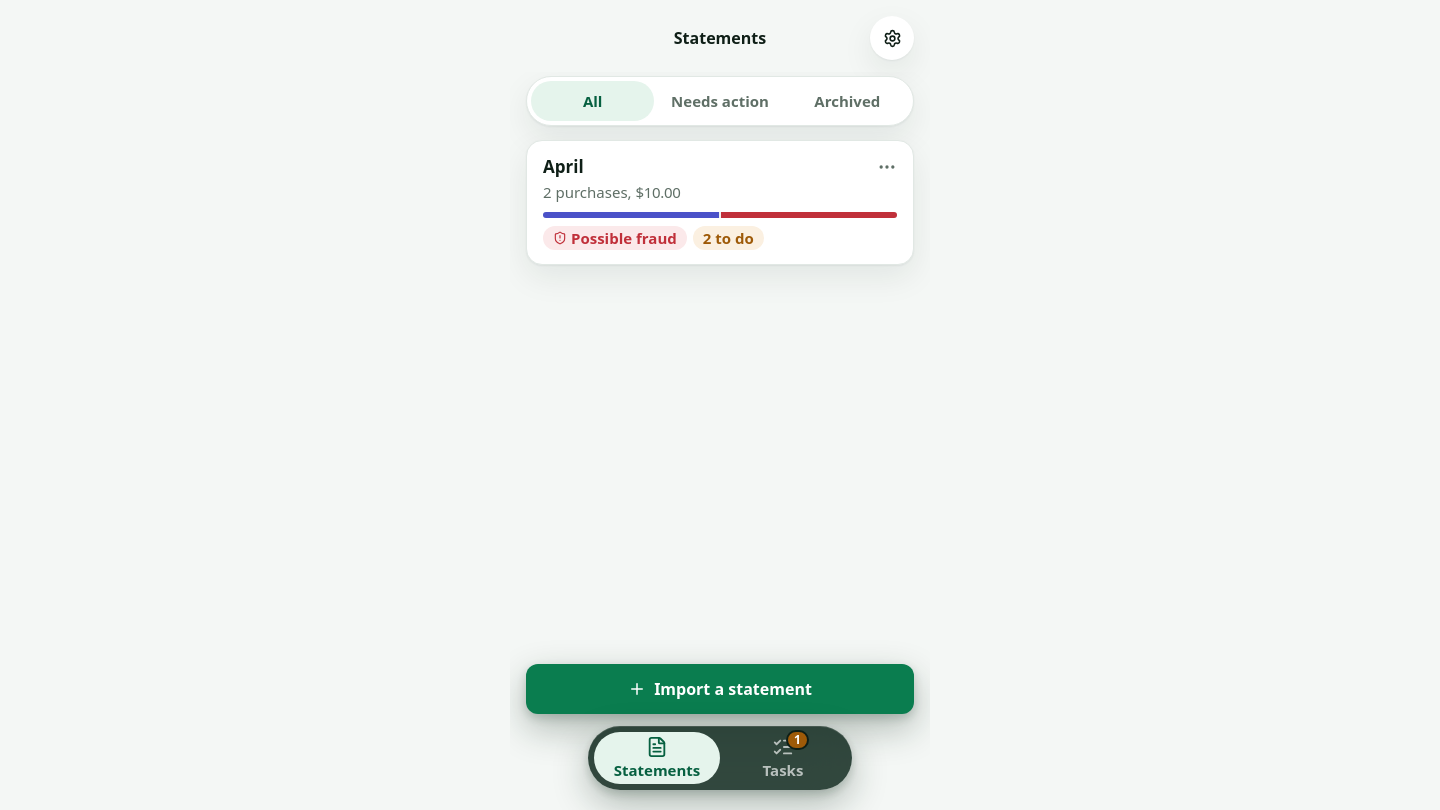
Test: App › Tasks › resolving a flag moves it to Done and clears the statement
The width and height of the screenshot is (1440, 810).
Click the button with aria-label "Tasks, 1 overdue".
click(783, 758)  # box [720, 732, 846, 784]
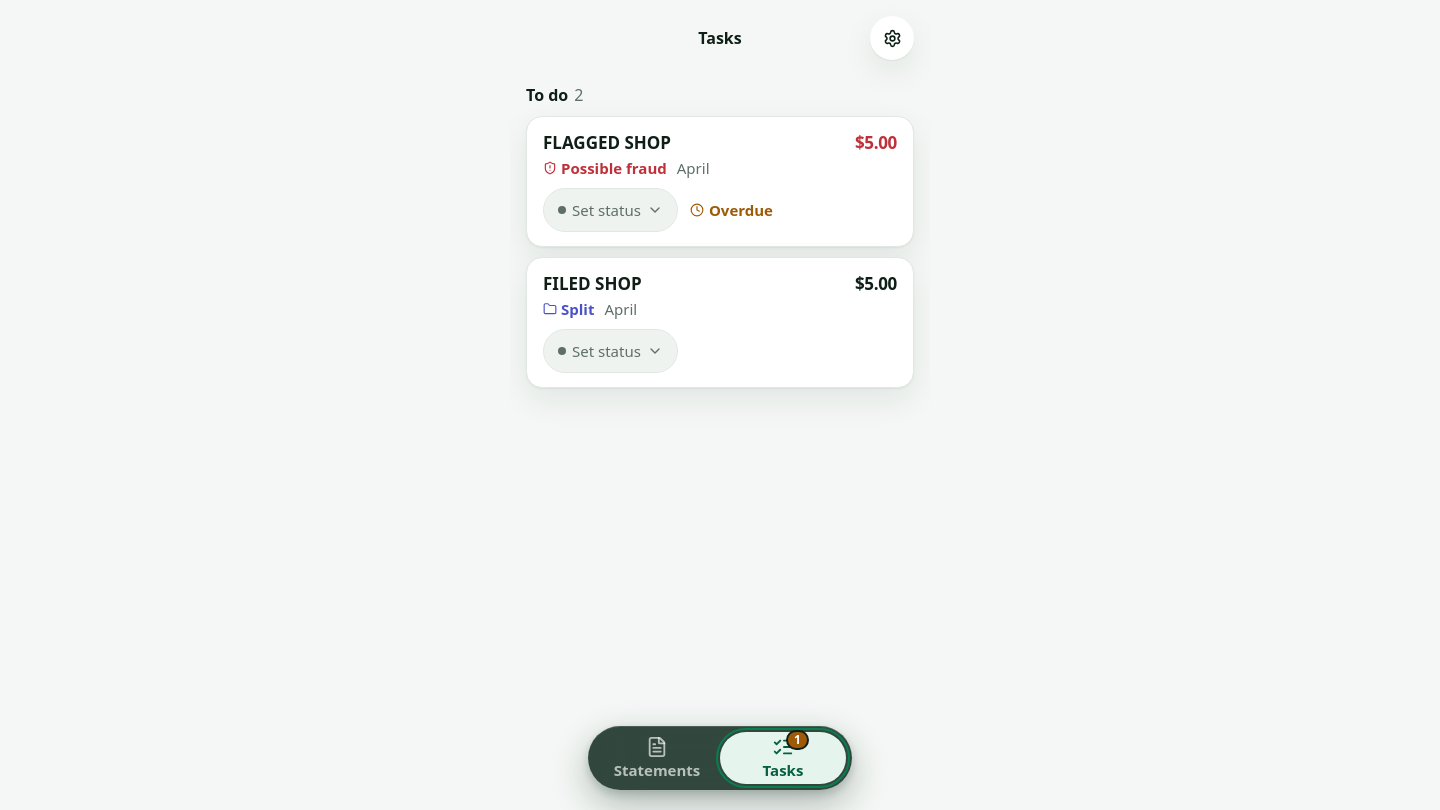
Click the button with aria-label "Change status for FLAGGED SHOP".
click(610, 210)  # box [543, 188, 678, 232]
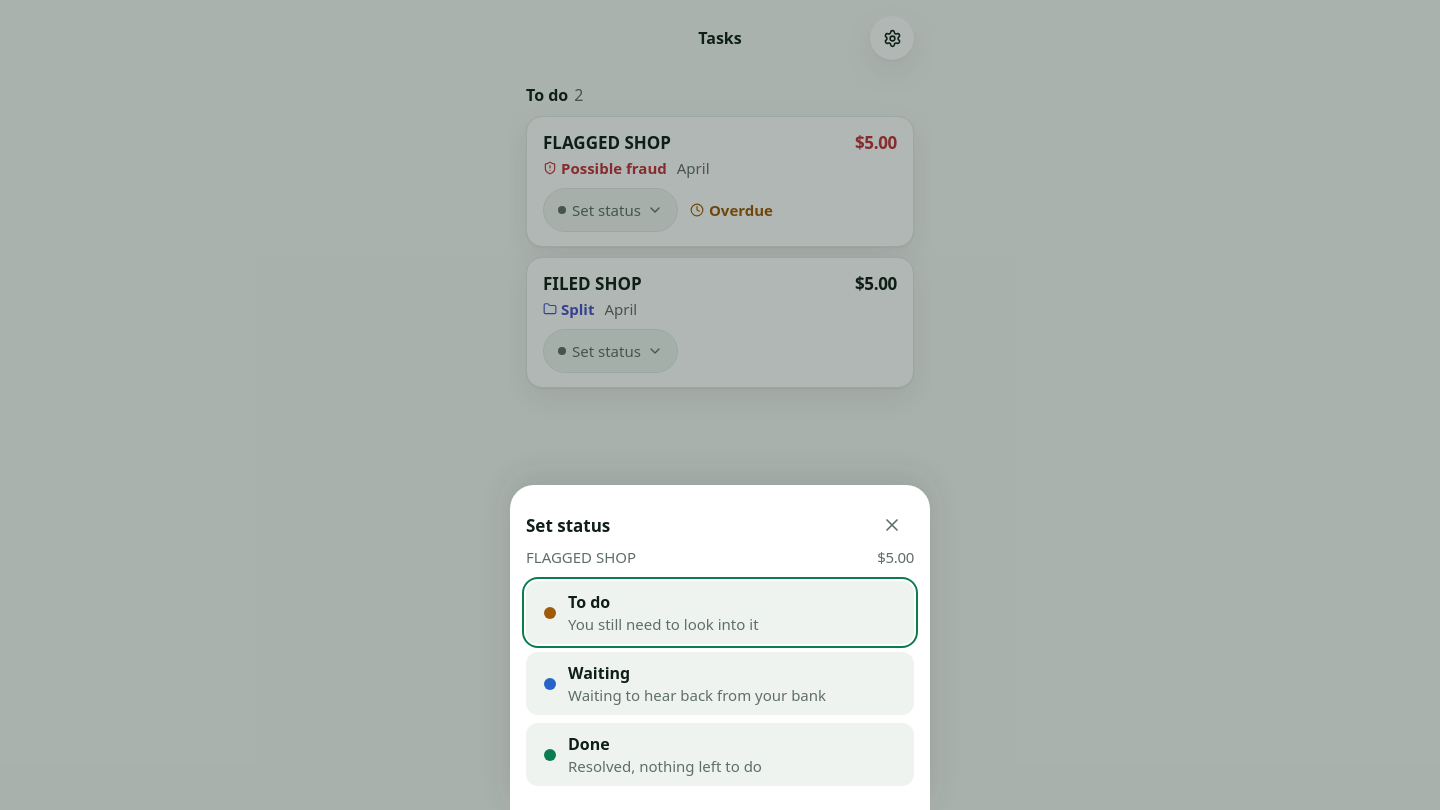
expect the text "Waiting to hear back from your bank" is shown: met, box [568, 685, 826, 705]
Click the button "Done Resolved, nothing left to do".
click(720, 754)  # box [526, 723, 914, 786]
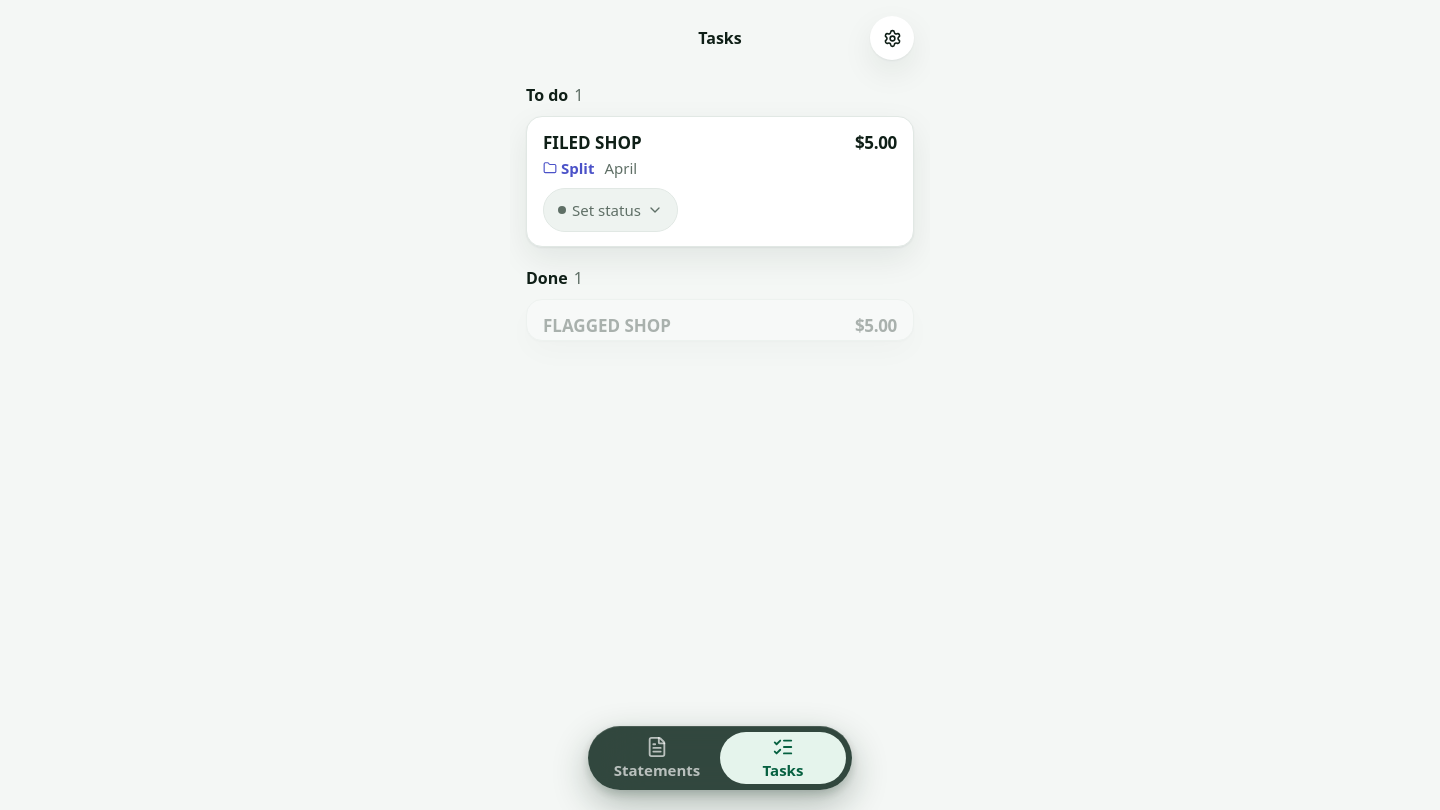
expect the text "FLAGGED SHOP" is shown: met, box [543, 314, 671, 337]
expect the button "Tasks" is shown: met, box [720, 732, 846, 784]
Click the button with aria-label "Change status for FILED SHOP".
click(610, 210)  # box [543, 188, 678, 232]
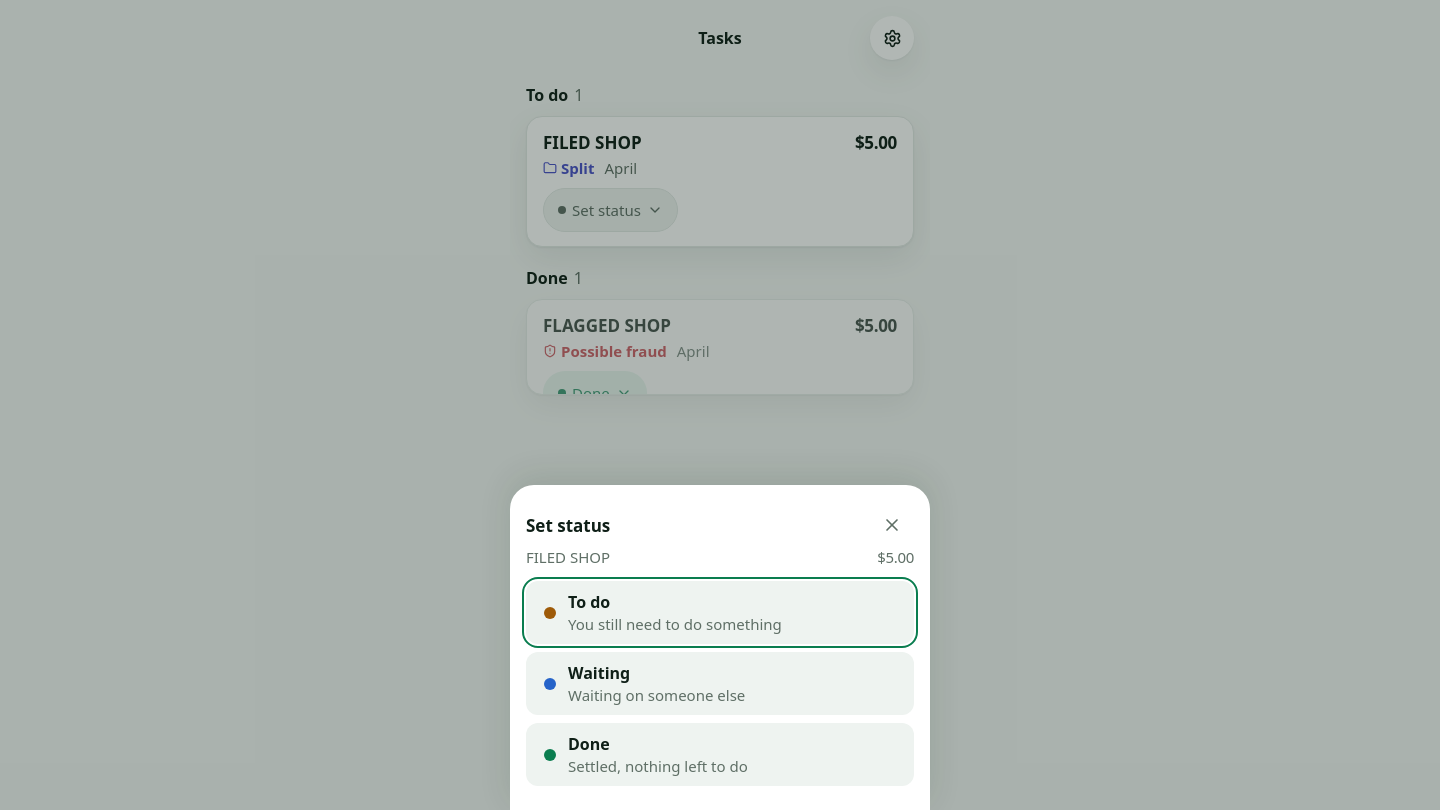
Click the button "Done Settled, nothing left to do".
click(720, 754)  # box [526, 723, 914, 786]
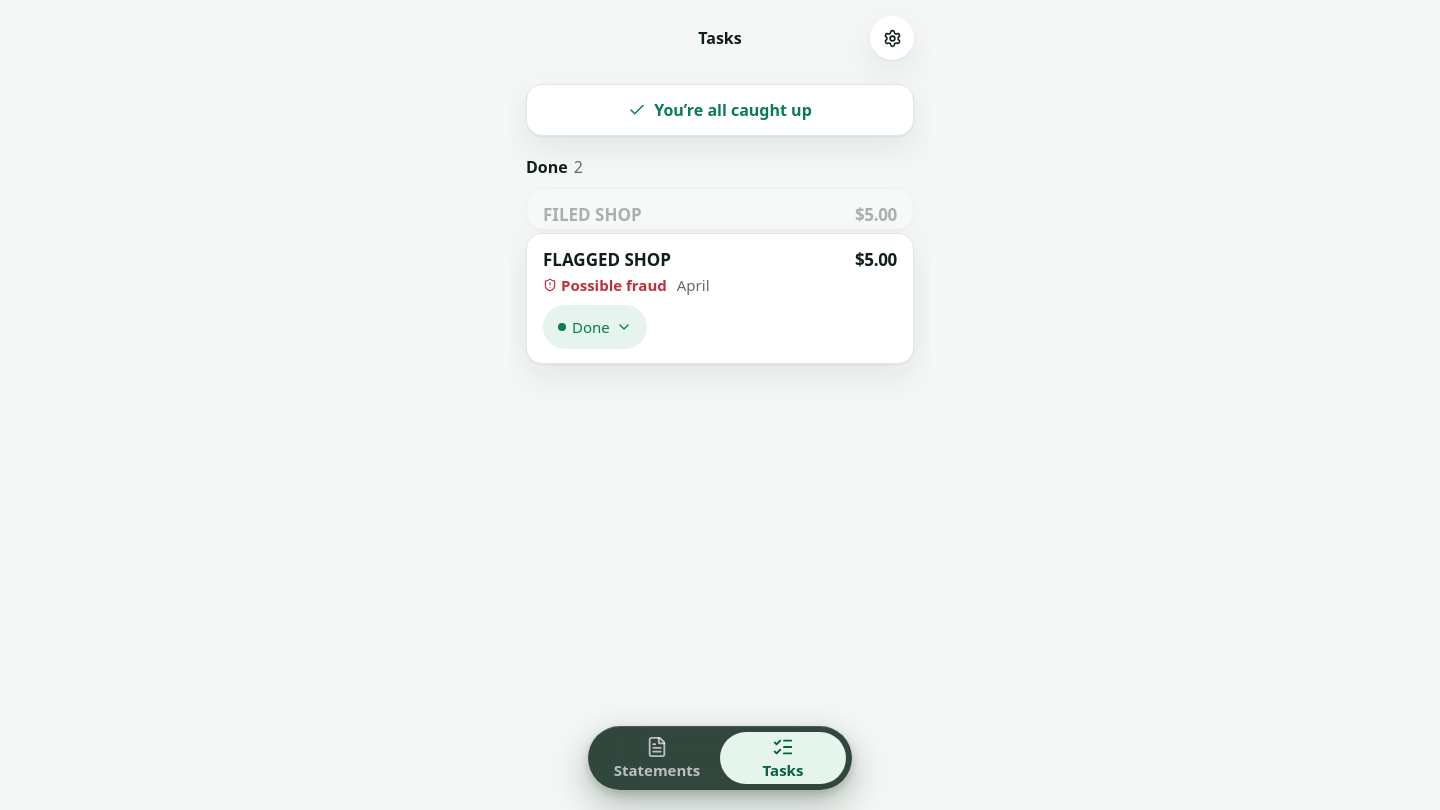
expect the text "You’re all caught up" is shown: met, box [526, 84, 914, 136]
Click the button "Statements".
click(657, 758)  # box [594, 732, 720, 784]
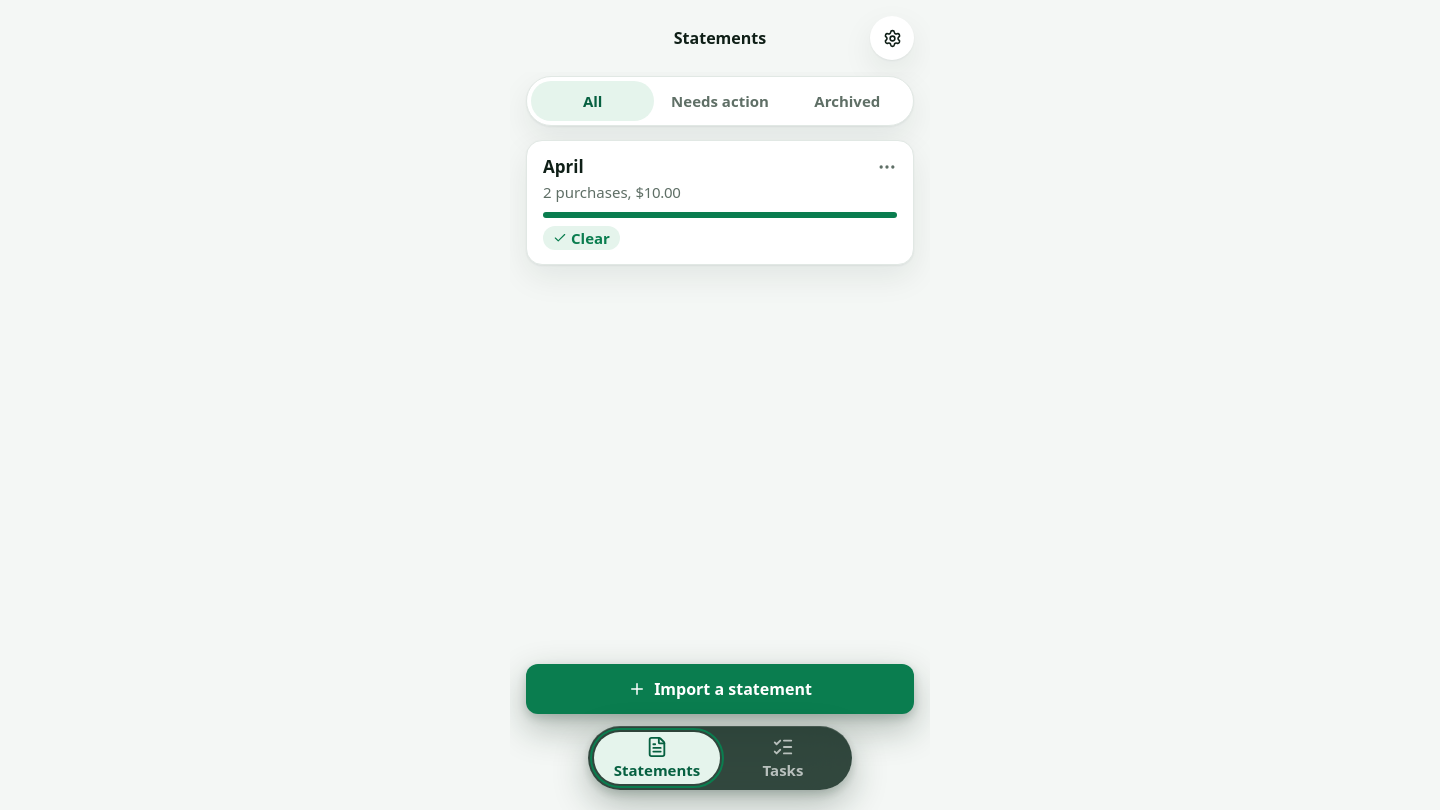
expect the text "Clear" is shown: met, box [543, 226, 620, 250]
